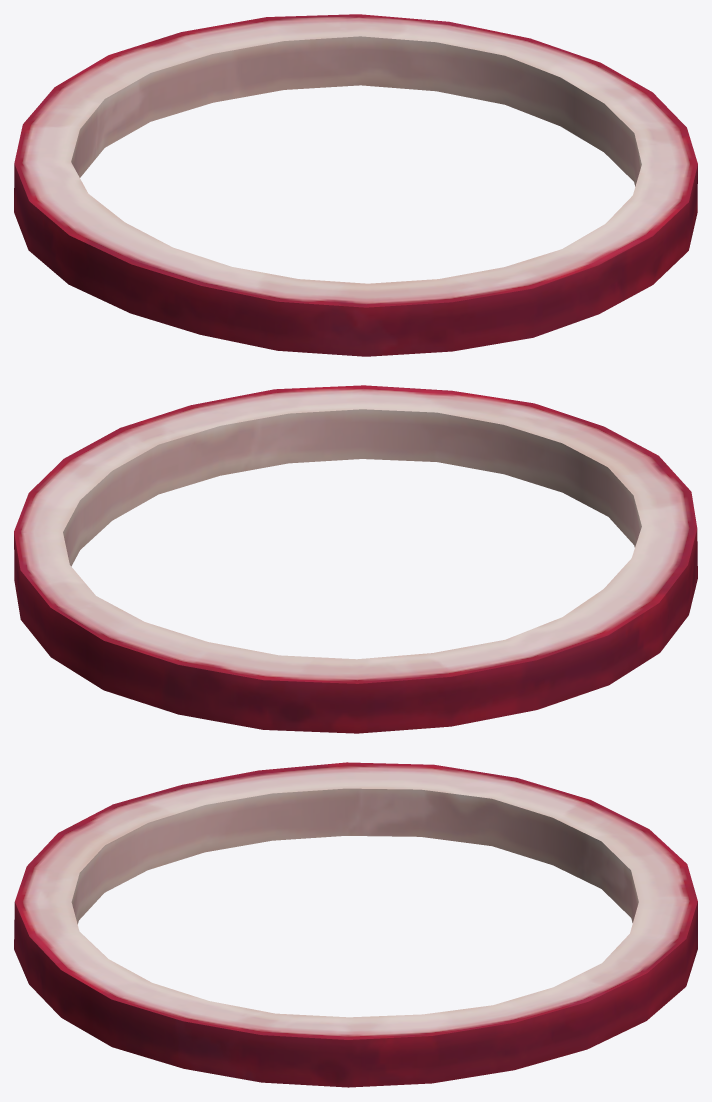
Rendered from SM_OnionBRingB.glb.
3 views of the same model, one above another, from view 1: azimuth 30°, elevation 25°; view 2: azimuth 150°, elevation 25°; view 3: azimuth 270°, elevation 25° (orthographic). The views are drawn at different scales.
Parts seen in each view (by area): view 1: SM_OnionBRingB; view 2: SM_OnionBRingB; view 3: SM_OnionBRingB.
Boxes of the visible parts, x1,y1,x2,y2 form: SM_OnionBRingB: (14, 14, 697, 356); SM_OnionBRingB: (14, 385, 697, 733); SM_OnionBRingB: (14, 762, 697, 1087).
Size of the model in its own units: 0.0899 by 0.00718 by 0.0934.
Materials: 1 (1 with a texture image).
